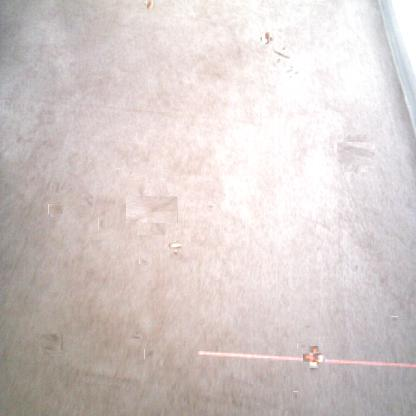dirty: (306, 349, 322, 365), (170, 241, 182, 252), (261, 32, 271, 44), (145, 0, 154, 9)
mark: (132, 190, 172, 230), (340, 137, 372, 169), (40, 333, 62, 355), (274, 47, 288, 61), (50, 203, 62, 216), (81, 194, 93, 206), (285, 66, 297, 78), (144, 349, 155, 359), (52, 182, 62, 192), (98, 218, 105, 230), (132, 332, 142, 340), (352, 262, 360, 272), (141, 257, 149, 266), (299, 342, 307, 351), (206, 203, 214, 210), (292, 391, 298, 400), (391, 316, 398, 322), (304, 324, 310, 330), (129, 170, 133, 178), (116, 168, 120, 175)
